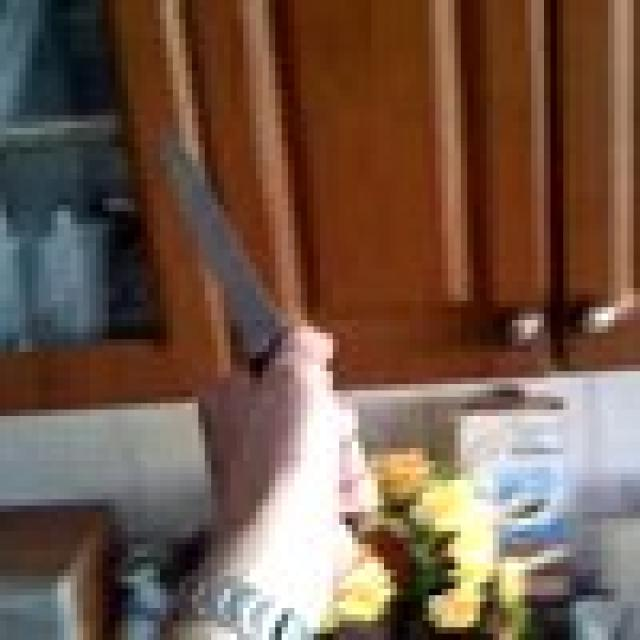Knife: (166, 134, 288, 365)
